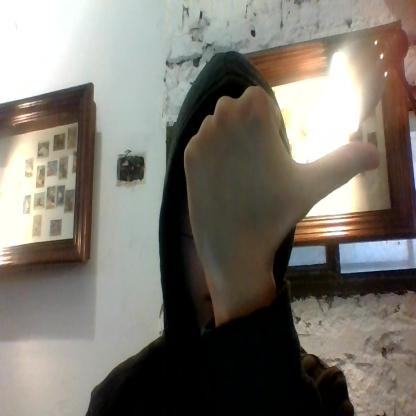left: (180, 83, 381, 265)
